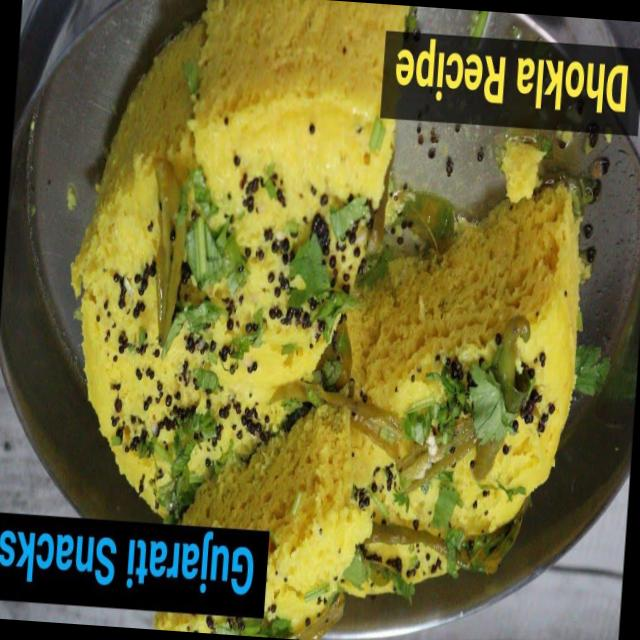dhokla: (68, 8, 598, 640)
